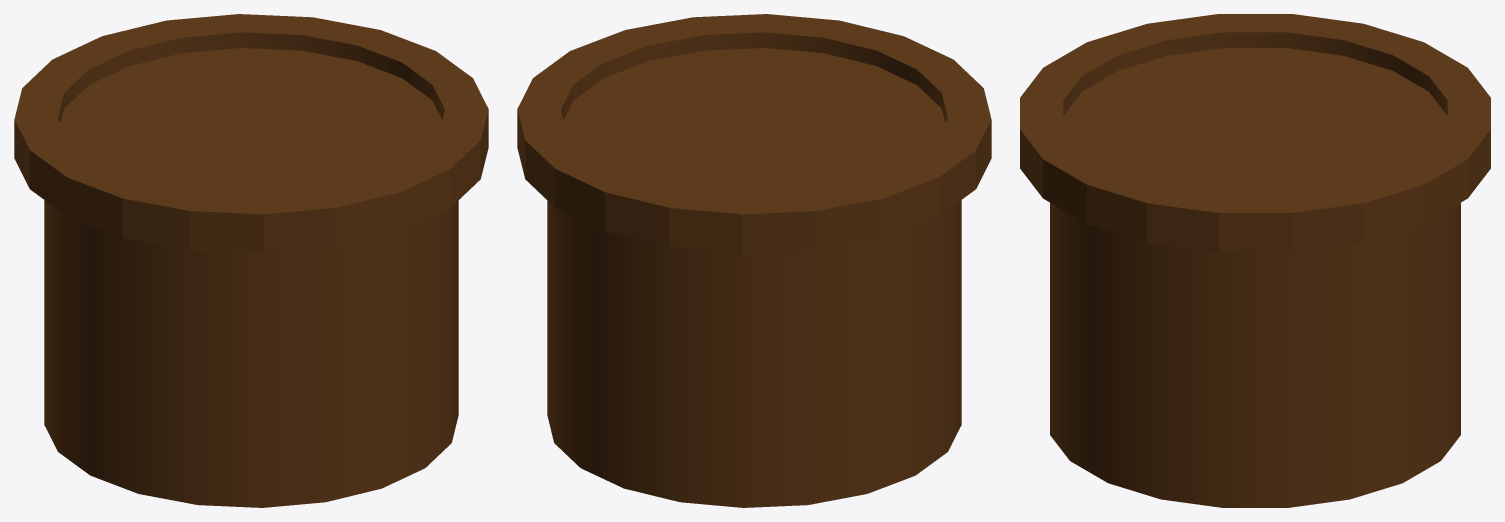
The model's file is toprak.fbx.
The picture shows the model from 3 angles, left to right: view 1: azimuth 30°, elevation 25°; view 2: azimuth 150°, elevation 25°; view 3: azimuth 270°, elevation 25°; orthographic projection.
Visible parts, largest first — view 1: toprak; view 2: toprak; view 3: toprak.
Part boxes in pixels (x1=…): toprak: x1=14, y1=14, x2=488, y2=507; toprak: x1=517, y1=14, x2=991, y2=507; toprak: x1=1020, y1=14, x2=1490, y2=507.
Size of the model in its own units: 2.56 by 1.85 by 2.56.
Materials: 1 (1 with a texture image).
